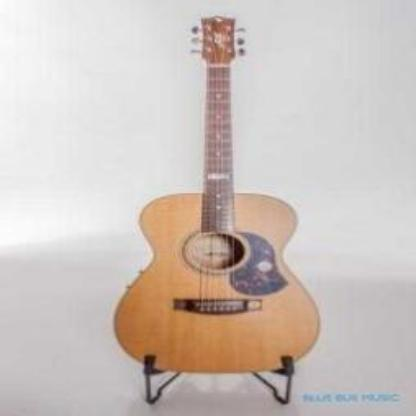acousticguitar: (113, 17, 322, 373)
